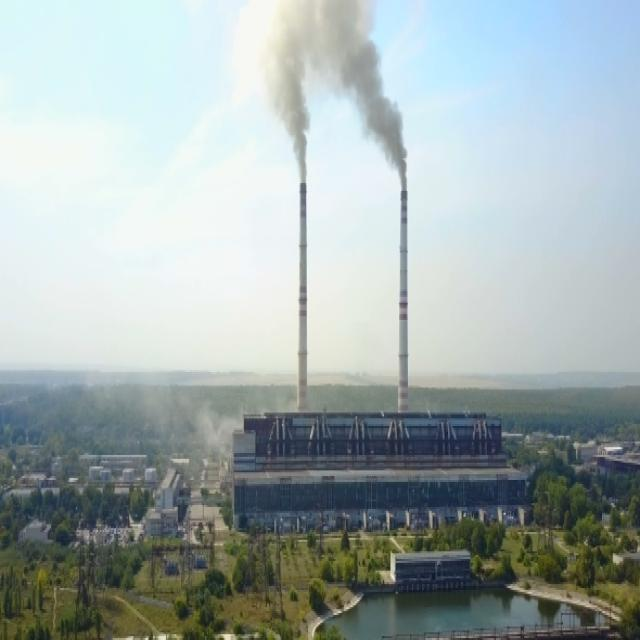Smoke: (234, 0, 408, 185)
